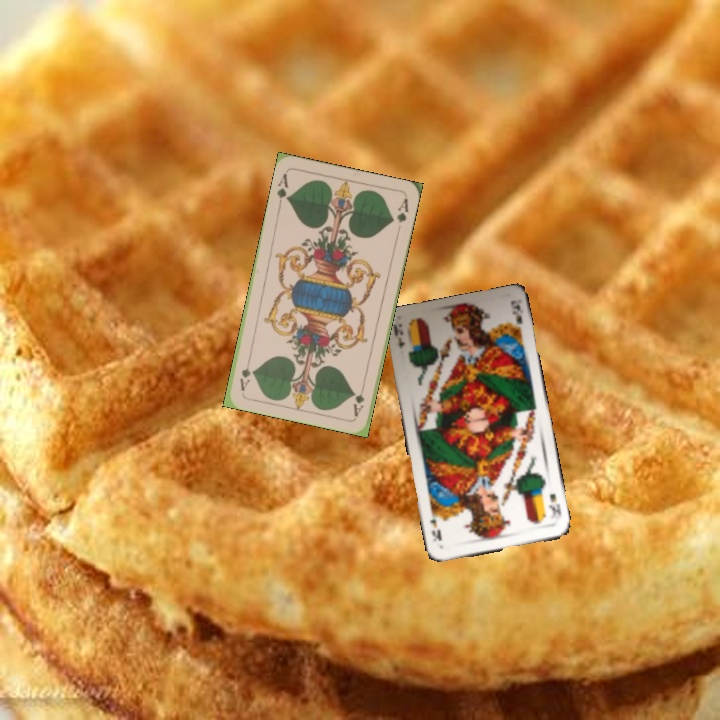EK: (545, 489, 564, 524), (390, 321, 408, 351)
GA: (349, 379, 368, 419), (273, 170, 292, 209)
